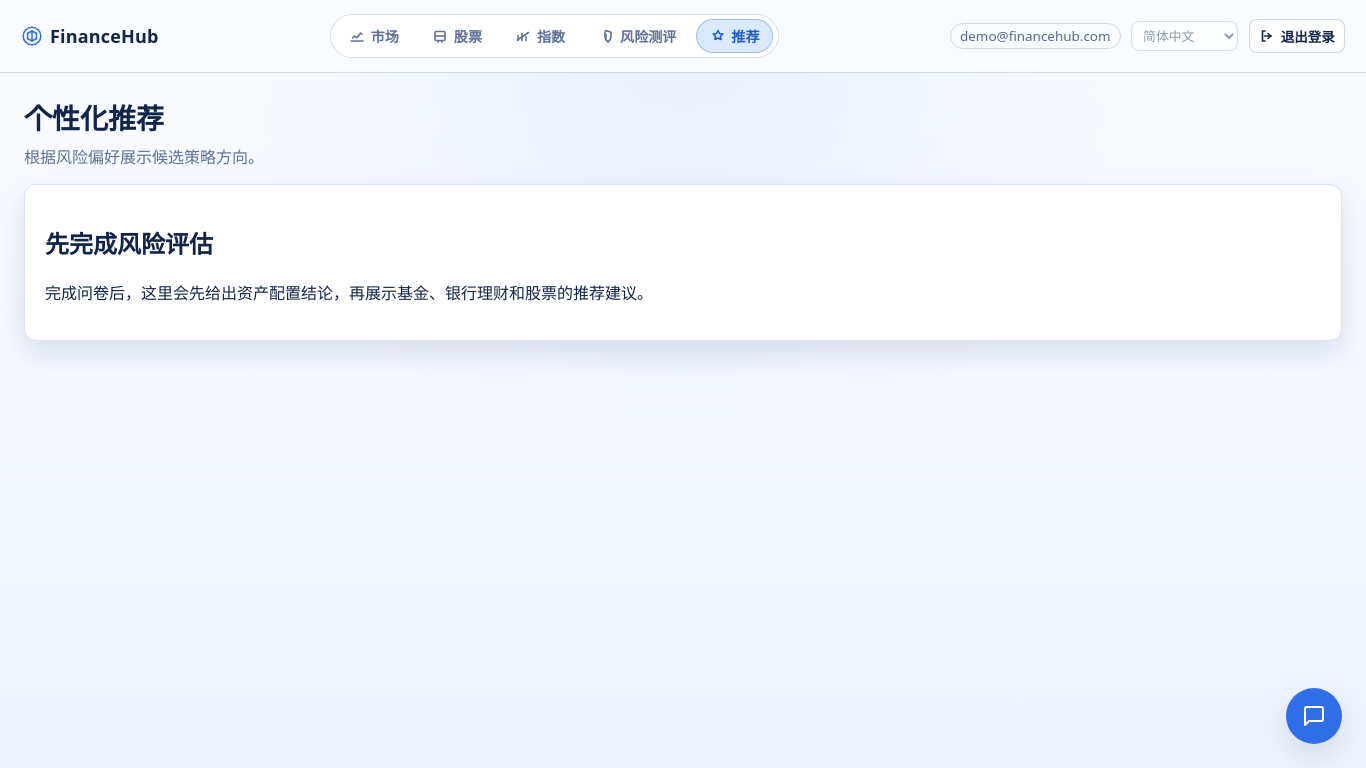
Test case: RecommendationsPage › renders locale-aware empty guidance in en-US
Select "English (US)" in the dropdown at (1185, 36), box [1131,21,1238,51]
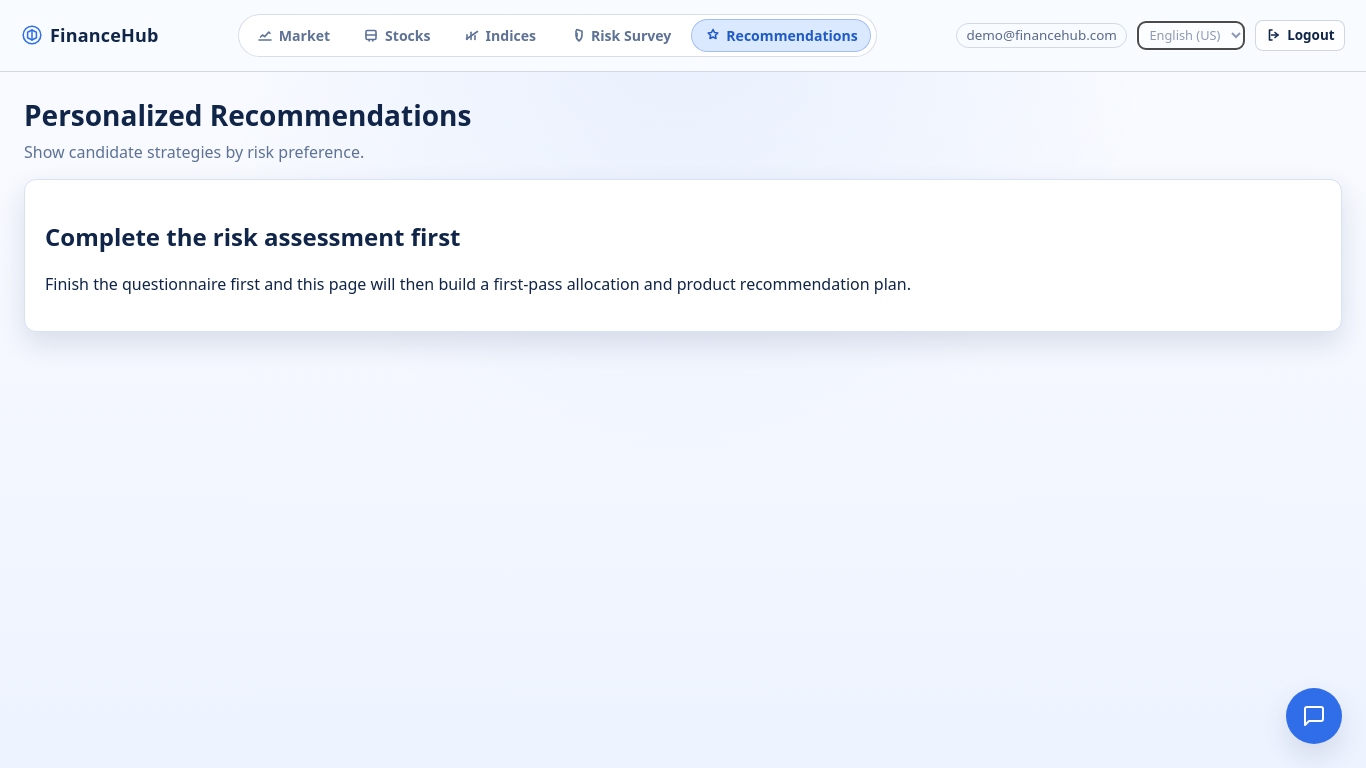
Check: the heading "Personalized Recommendations" is shown, box [24,96,471,134]
Check: the heading "Complete the risk assessment first" is shown, box [45,220,460,253]
Check: the text "Finish the questionnaire first and this page will then build a first-pass allocation and product recommendation plan." is shown, box [45,273,911,295]
